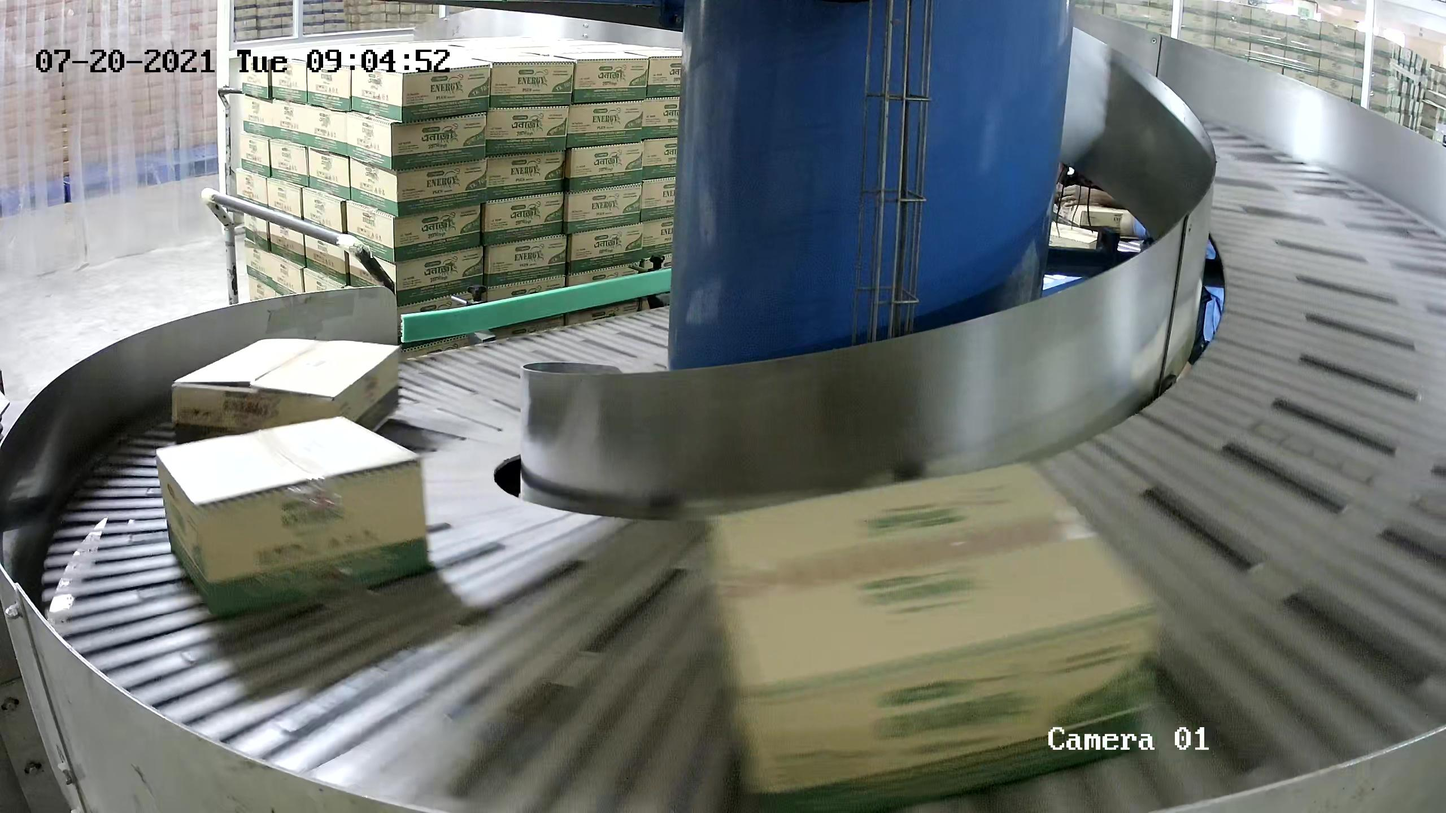Box: (700, 453, 1168, 813), (154, 410, 433, 618), (168, 333, 404, 448)
